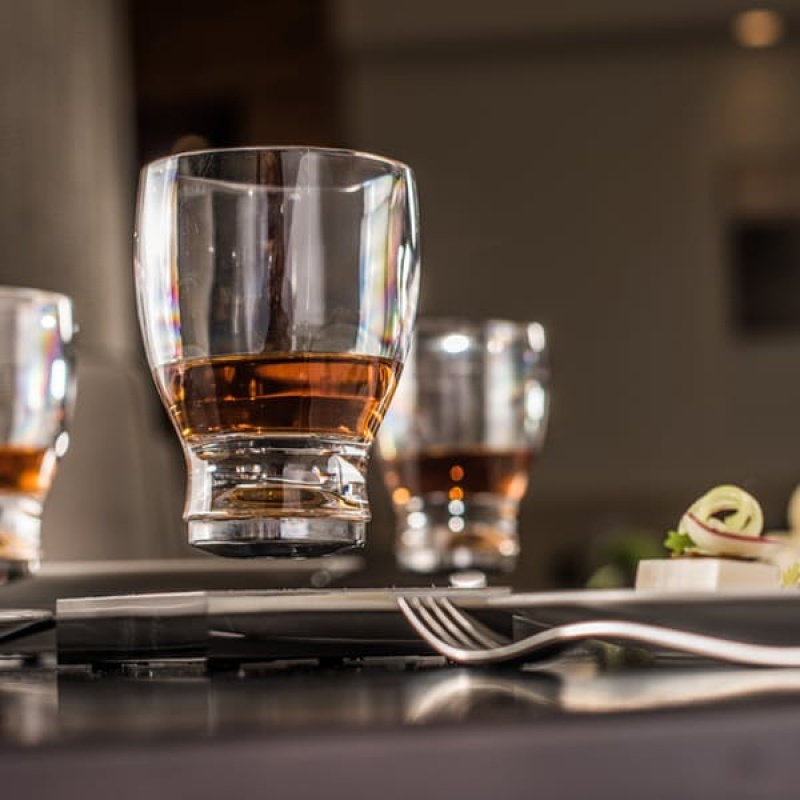whiskey: (155, 144, 428, 537)
